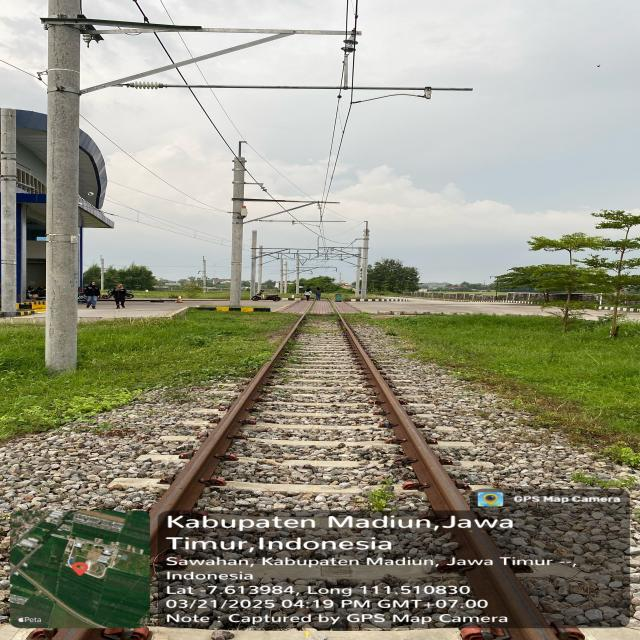rail-detection: (150, 330, 293, 559), (341, 318, 474, 520), (453, 523, 553, 640)
